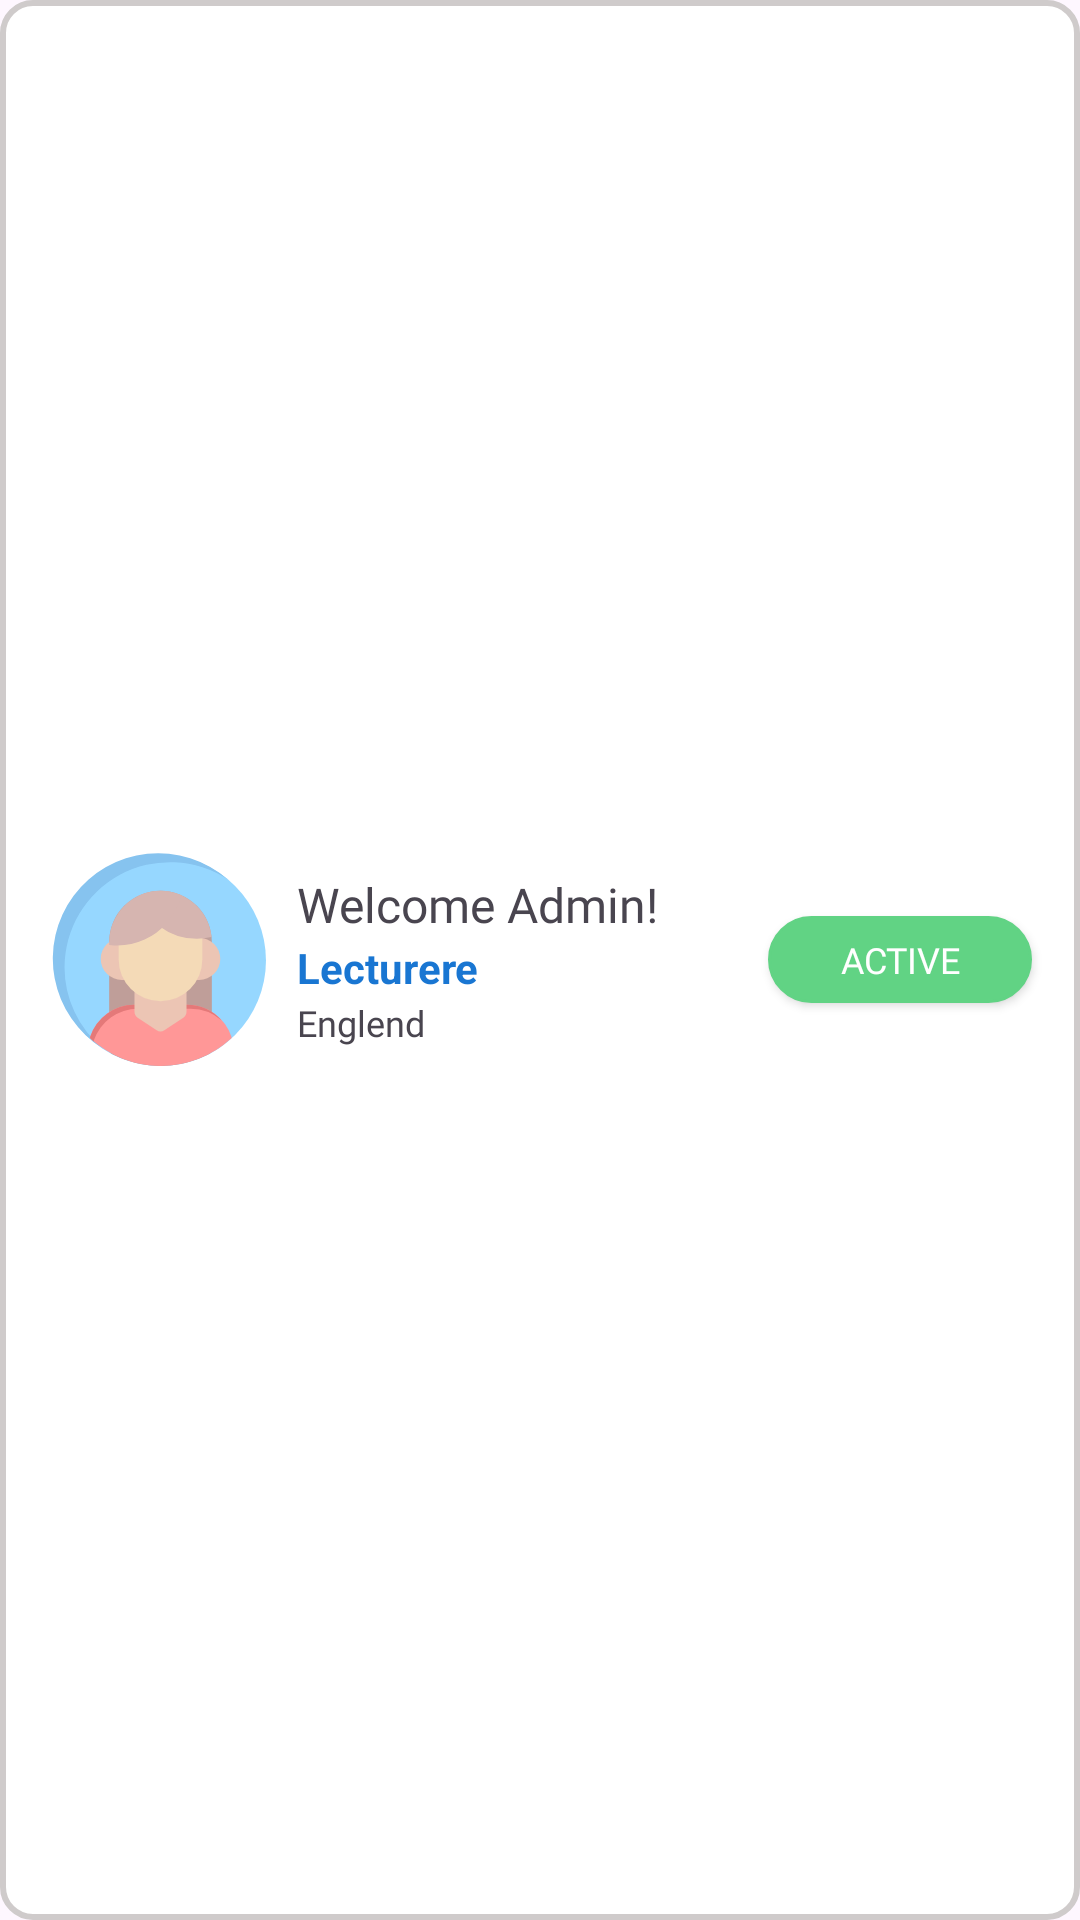

Named icons in this screenshot (1080px×1920px) and their bounding boxes, (x1=x1, y1=y1, x2=x2, y2=y2):
profile: (x1=53, y1=853, x2=266, y2=1066)
